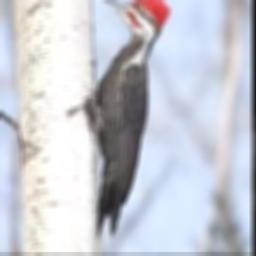Woodpecker: (88, 0, 170, 240)
